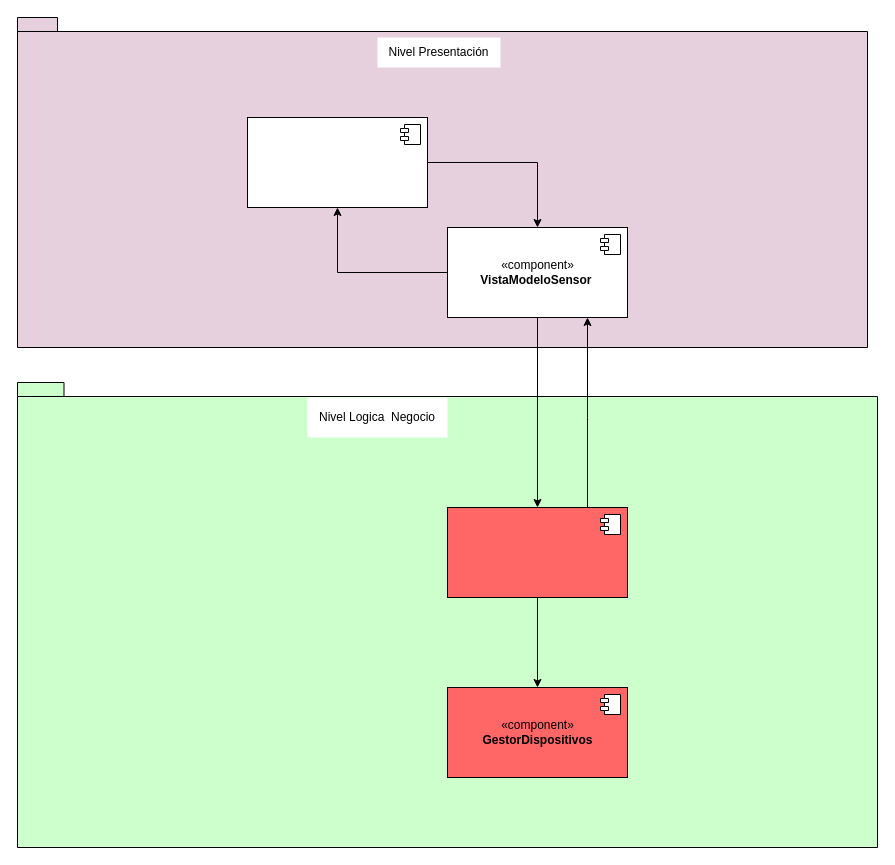
Some shapes in this 895 by 865 pixel diagram are drawn without their labels. Each missing label, with the centre of its shape:
«component» ColaMensajes: the point at 537,552
«component» Sensor: the point at 337,162
